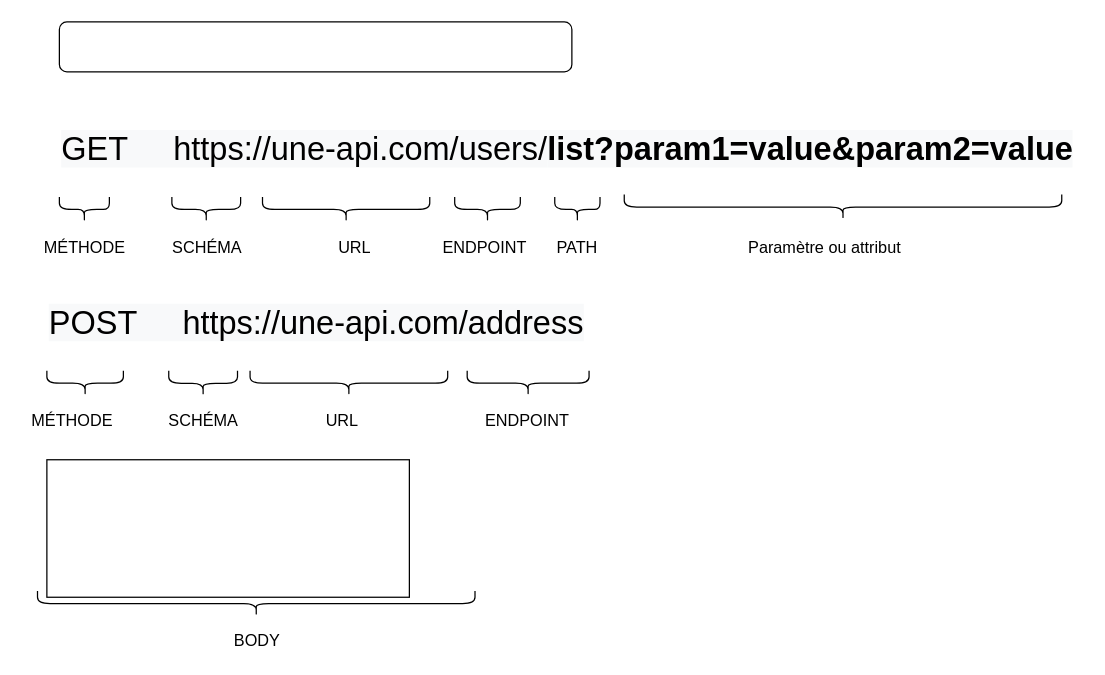
This 1105x675 diagram has some shape labels left out. The shapes that lost their labels are listed below. From the top down, each one's box as (x1, y1, x2, y2) in pixels, then its label:
(58, 21, 572, 72): REQUÊTES vers serveur
(46, 458, 409, 597): { "id" : 20393 , "zipCode" : "17200", "Street": "Rue du nord" }
